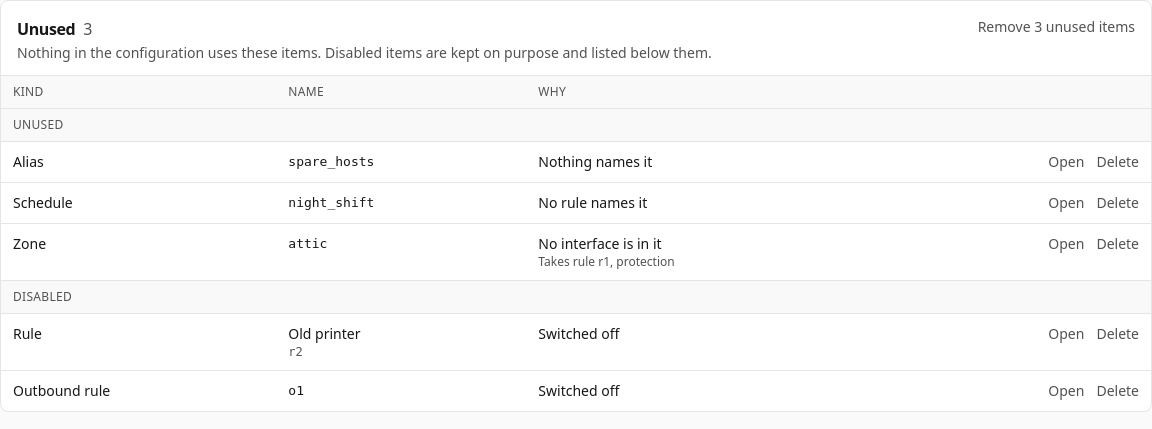
Scenario: UnusedSection › removes every unused item in one go, with one way back
What coordinates should you click on to do the following:
click the button "Remove 3 unused items"
I would click on:
 (1056, 27)
Its box is top-left (978, 17), bottom-right (1135, 37).
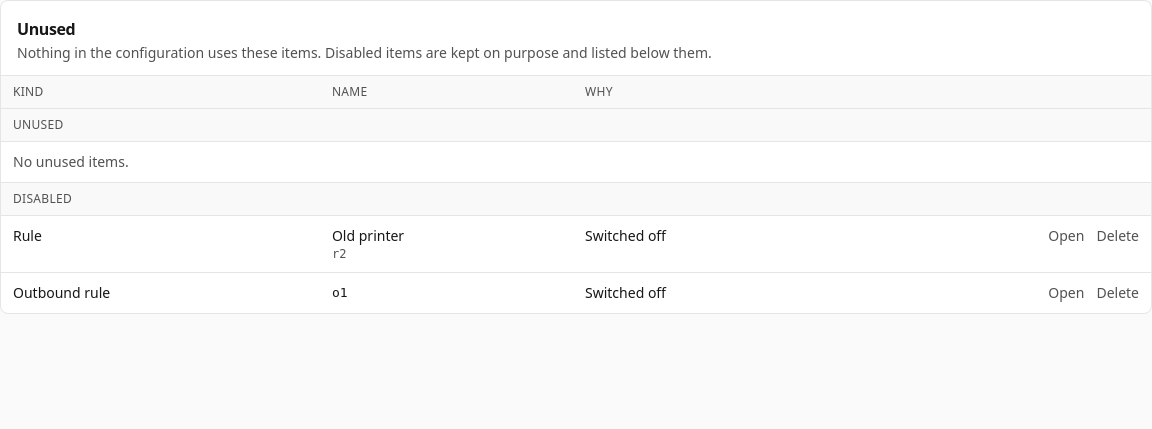
Result: the text "No unused items." is shown at top-left (1, 142), bottom-right (1151, 182)
